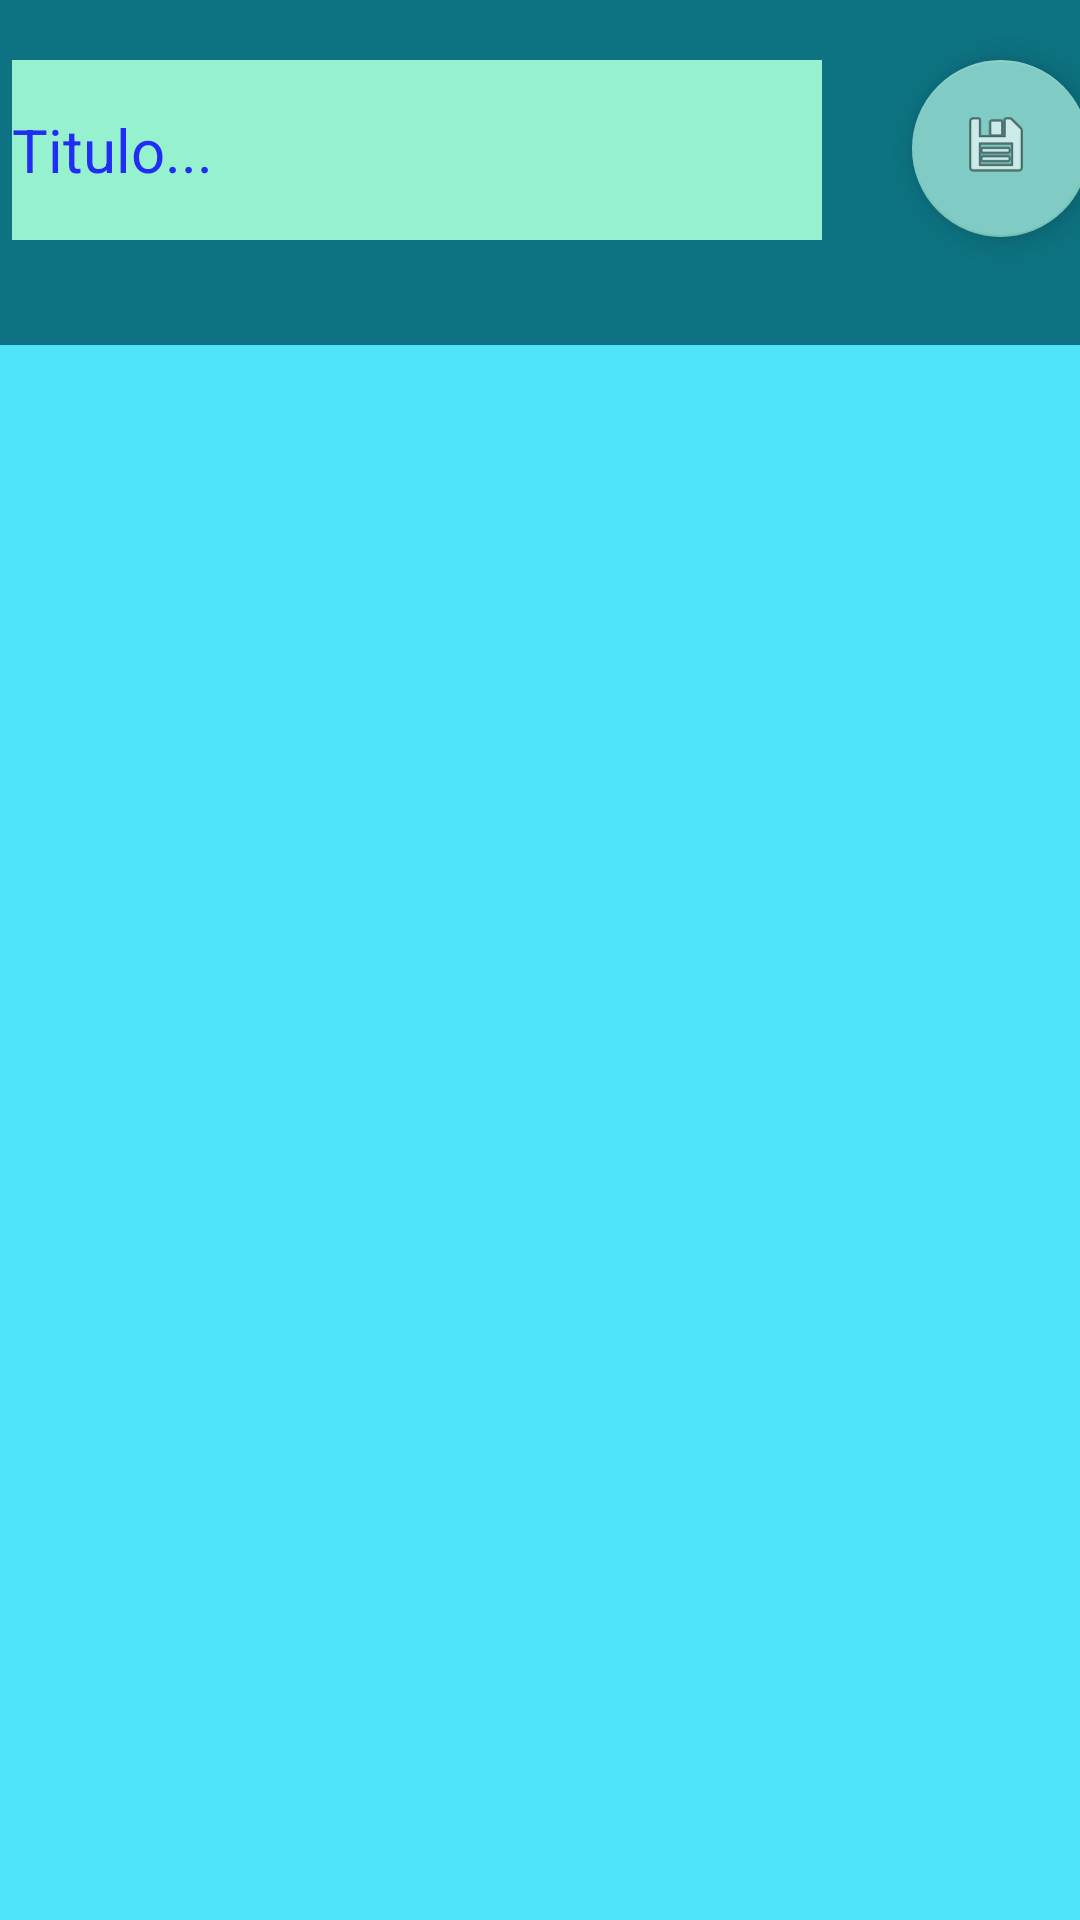

Icons on this 1080*1920 Android screen, each with the point to tap as (x,y):
save: (996,148)
